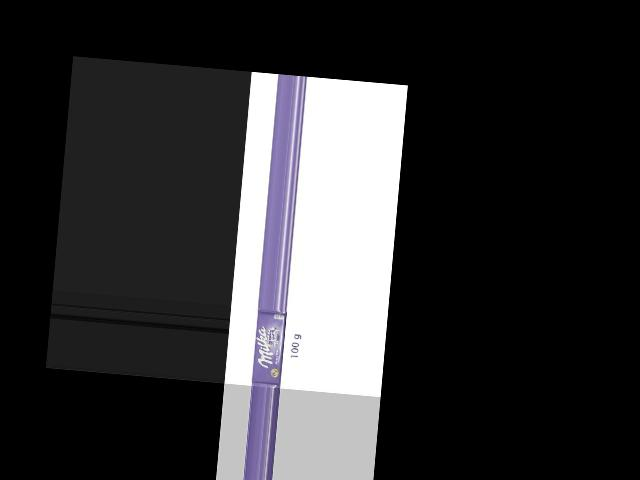chocolate: (250, 307, 292, 386)
